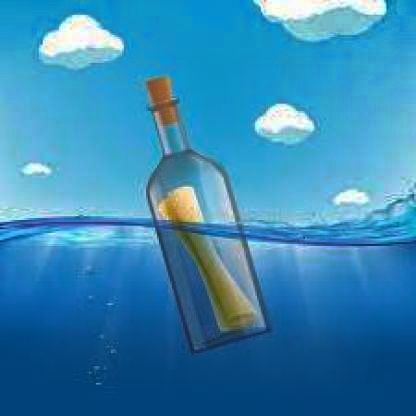gbottle: (144, 76, 272, 353)
